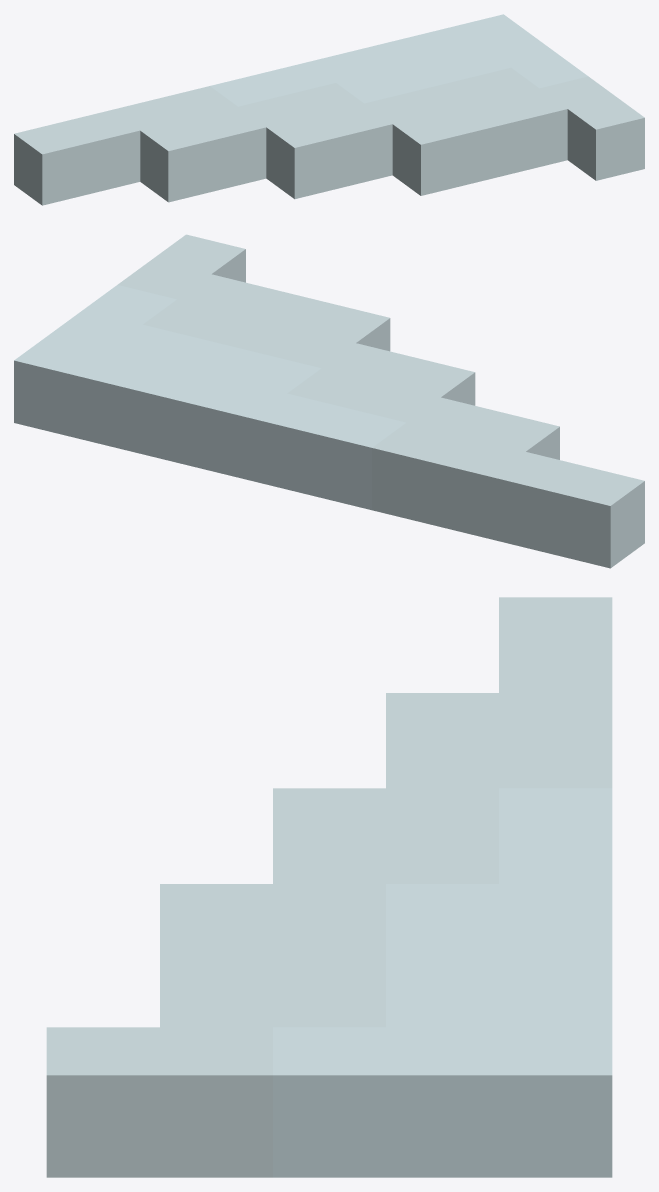
Rendered from grass_lined_diagonal_B_up.obj.
3 views of the same model, one above another, from view 1: azimuth 30°, elevation 25°; view 2: azimuth 150°, elevation 25°; view 3: azimuth 270°, elevation 25° (orthographic). The views are drawn at different scales.
Bounding box in the file's own units: 1 × 0.1 × 0.5.
1 material, 1 textured.
